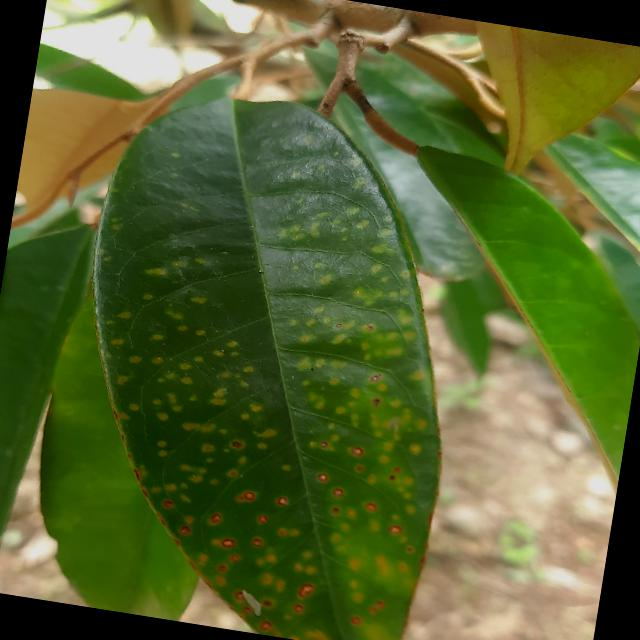Leaf Spot: (25, 45, 512, 639)
